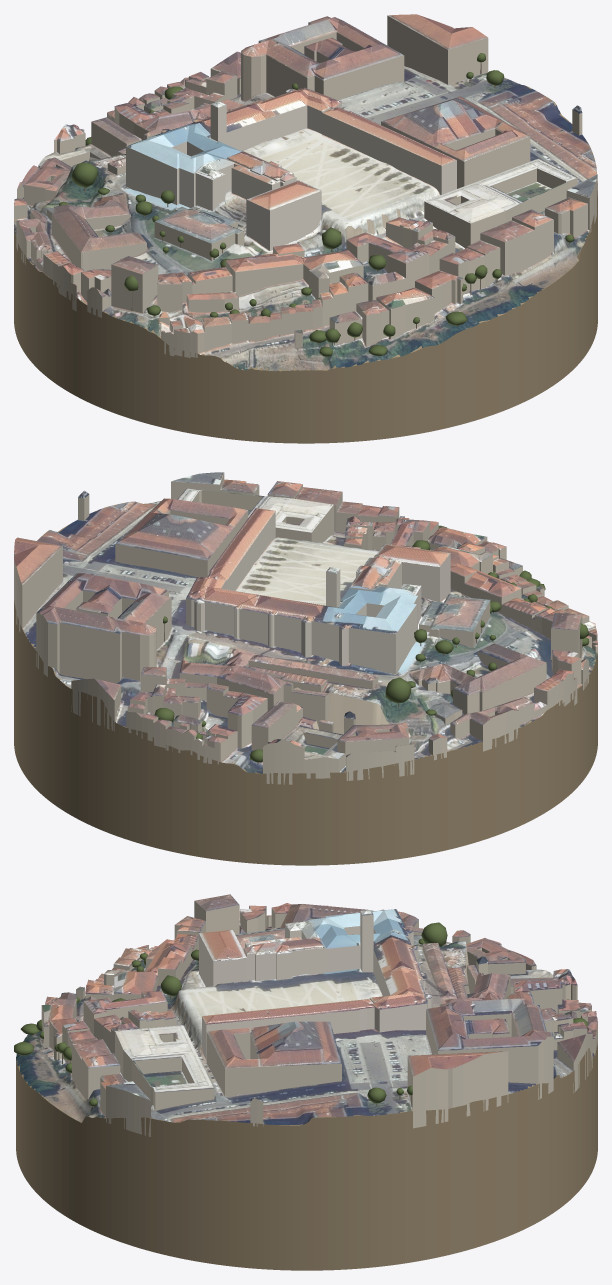
The model's file is paco-das-escolas.glb.
The picture shows the model from 3 angles, top to bottom: view 1: azimuth 30°, elevation 25°; view 2: azimuth 150°, elevation 25°; view 3: azimuth 270°, elevation 25°; orthographic projection.
Visible parts, largest first — view 1: Terreno, Edif_contexto, Edif_conjunto_relation_2708767, Arvores, Edif_conjunto_way_201989127, Edif_conjunto_way_51293313, Edif_conjunto_way_1315902875, Edif_conjunto_way_115574903; view 2: Terreno, Edif_contexto, Edif_conjunto_relation_2708767, Edif_conjunto_way_201989127, Arvores, Edif_conjunto_way_51293313, Edif_conjunto_way_1315902875, Edif_conjunto_way_115574903; view 3: Terreno, Edif_contexto, Edif_conjunto_relation_2708767, Edif_conjunto_way_201989127, Edif_conjunto_way_1315902875, Arvores, Edif_conjunto_way_51293313, Edif_conjunto_way_115574903.
Part boxes in pixels (left/top/right/bottom): Terreno: left=14, top=66, right=597, bottom=443; Edif_contexto: left=14, top=14, right=597, bottom=357; Edif_conjunto_relation_2708767: left=126, top=88, right=341, bottom=211; Arvores: left=59, top=53, right=574, bottom=356; Edif_conjunto_way_201989127: left=322, top=107, right=456, bottom=194; Edif_conjunto_way_51293313: left=246, top=180, right=321, bottom=250; Edif_conjunto_way_1315902875: left=227, top=151, right=296, bottom=184; Edif_conjunto_way_115574903: left=210, top=101, right=226, bottom=144; Terreno: left=14, top=501, right=597, bottom=865; Edif_contexto: left=14, top=472, right=597, bottom=784; Edif_conjunto_relation_2708767: left=186, top=558, right=421, bottom=674; Edif_conjunto_way_201989127: left=207, top=508, right=275, bottom=590; Arvores: left=154, top=525, right=589, bottom=762; Edif_conjunto_way_51293313: left=376, top=544, right=450, bottom=602; Edif_conjunto_way_1315902875: left=349, top=555, right=391, bottom=590; Edif_conjunto_way_115574903: left=326, top=567, right=340, bottom=607; Terreno: left=16, top=926, right=597, bottom=1270; Edif_contexto: left=41, top=894, right=597, bottom=1136; Edif_conjunto_relation_2708767: left=243, top=909, right=431, bottom=1032; Edif_conjunto_way_201989127: left=202, top=999, right=374, bottom=1059; Edif_conjunto_way_1315902875: left=244, top=938, right=326, bottom=981; Arvores: left=14, top=922, right=587, bottom=1106; Edif_conjunto_way_51293313: left=199, top=930, right=247, bottom=986; Edif_conjunto_way_115574903: left=360, top=910, right=373, bottom=972.
Size of the model in its own units: 300 by 119 by 301.
Materials: 9 (3 with a texture image).
